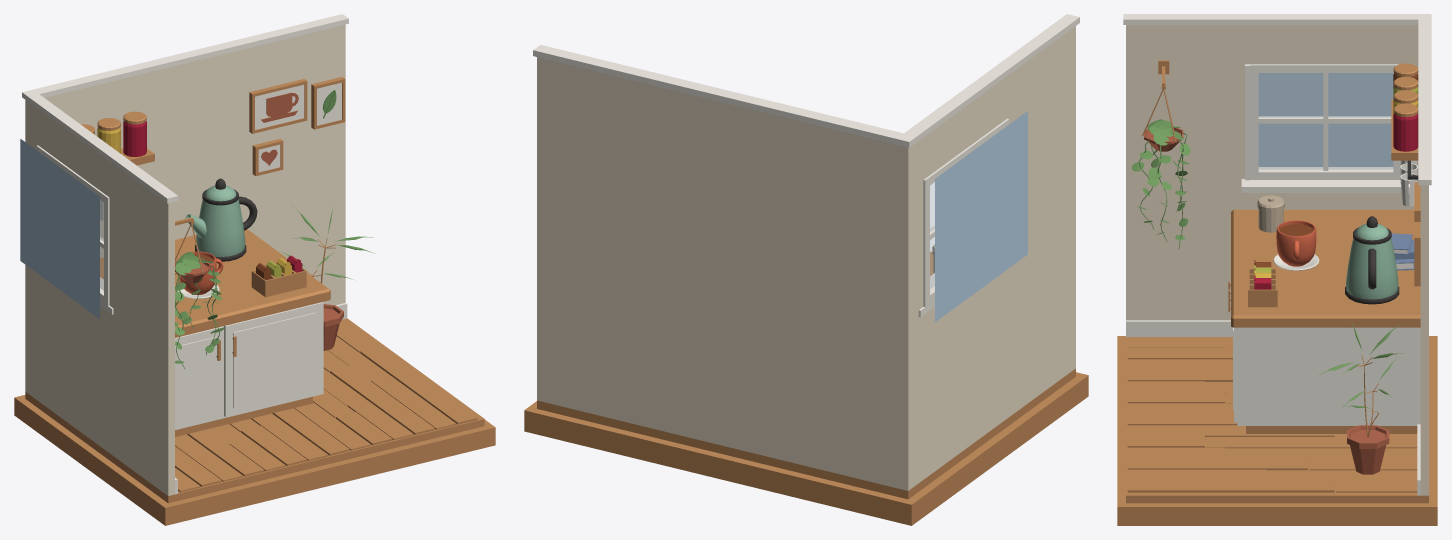
File: nook.glb
3 views of the same model, side by side, from view 1: azimuth 30°, elevation 25°; view 2: azimuth 150°, elevation 25°; view 3: azimuth 270°, elevation 25° (orthographic). The views are drawn at different scales.
Visible parts, largest first — view 1: Room, Window_Sky, Kettle, Mug; view 2: Room, Window_Sky; view 3: Room, Window_Glass, Window_Sky, Kettle, Mug.
Part boxes in pixels (bbox=[...]): Room: bbox=[14, 14, 495, 525]; Window_Sky: bbox=[20, 139, 99, 318]; Kettle: bbox=[185, 178, 257, 261]; Mug: bbox=[179, 251, 223, 295]; Room: bbox=[524, 14, 1088, 525]; Window_Sky: bbox=[935, 111, 1027, 321]; Room: bbox=[1117, 14, 1437, 525]; Window_Glass: bbox=[1259, 73, 1392, 169]; Window_Sky: bbox=[1258, 73, 1393, 166]; Kettle: bbox=[1345, 216, 1399, 304]; Mug: bbox=[1276, 220, 1316, 266].
Size of the model in its own units: 0.98 by 0.9 by 0.76.
